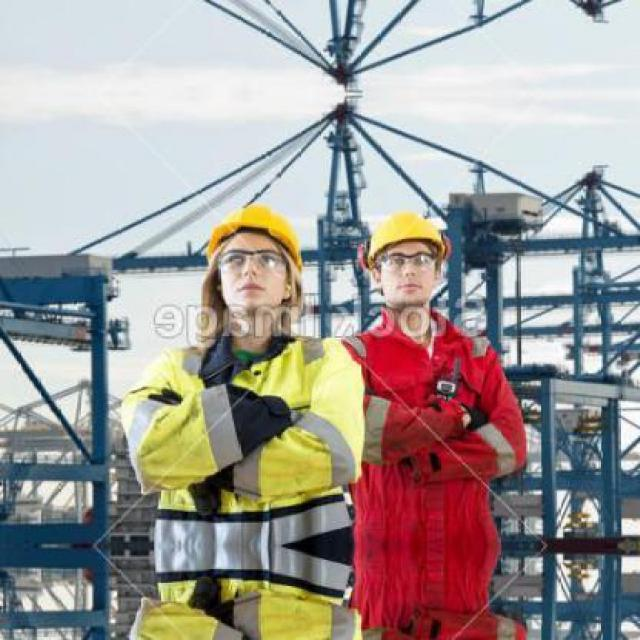Reflective-Jacket: (330, 308, 524, 549), (117, 336, 365, 521)
Safety-Helmet: (194, 193, 318, 287), (349, 201, 460, 276)
